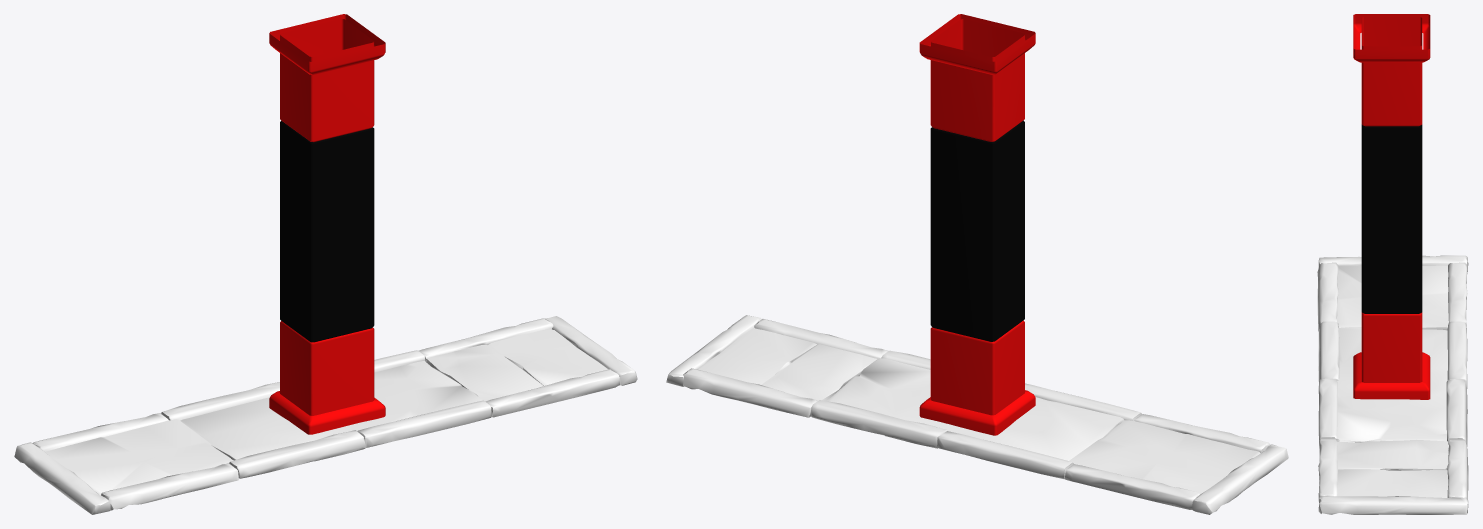
The model's file is SM_Shop_Pentice_Middle.FBX.
The picture shows the model from 3 angles, left to right: view 1: azimuth 30°, elevation 25°; view 2: azimuth 150°, elevation 25°; view 3: azimuth 270°, elevation 25°; orthographic projection. The views are drawn at different scales.
Parts seen in each view (by area): view 1: SM_Shop_Pentice_Middle; view 2: SM_Shop_Pentice_Middle; view 3: SM_Shop_Pentice_Middle.
Boxes of the visible parts, x1,y1,x2,y2 form: SM_Shop_Pentice_Middle: [14, 14, 637, 514]; SM_Shop_Pentice_Middle: [666, 14, 1288, 514]; SM_Shop_Pentice_Middle: [1317, 14, 1468, 514].
Size of the model in its own units: 600 by 153 by 402.
